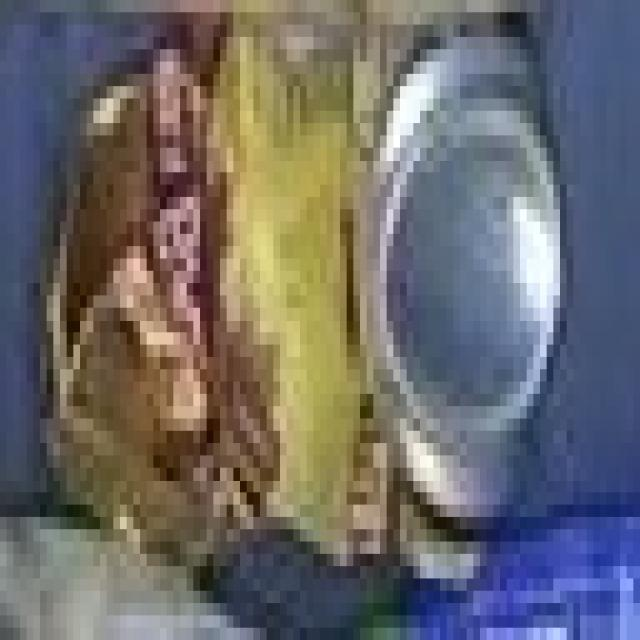litter: (26, 10, 594, 640)
